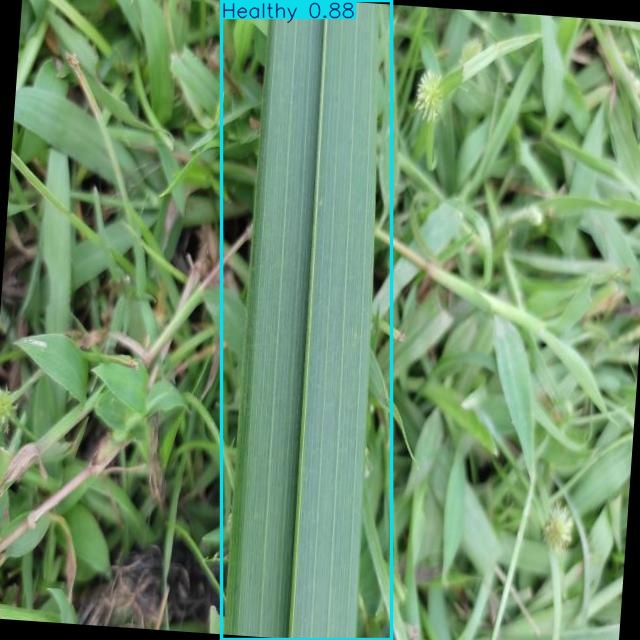Healthy: (222, 0, 392, 640)
